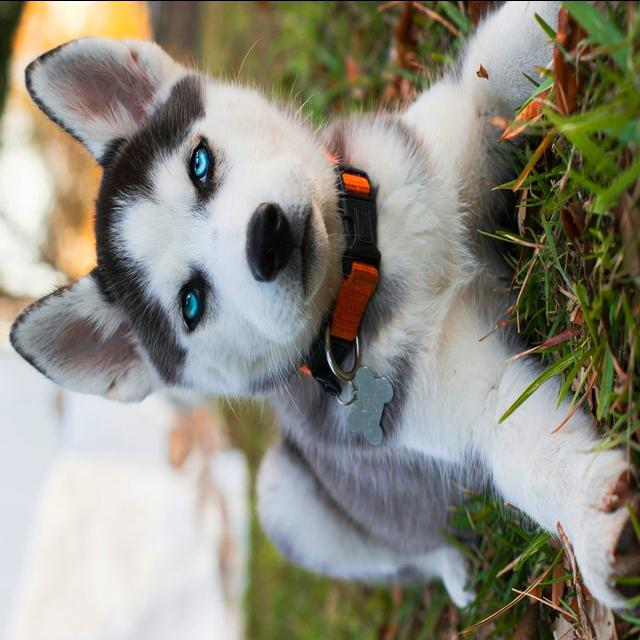husky: (8, 2, 638, 618)
